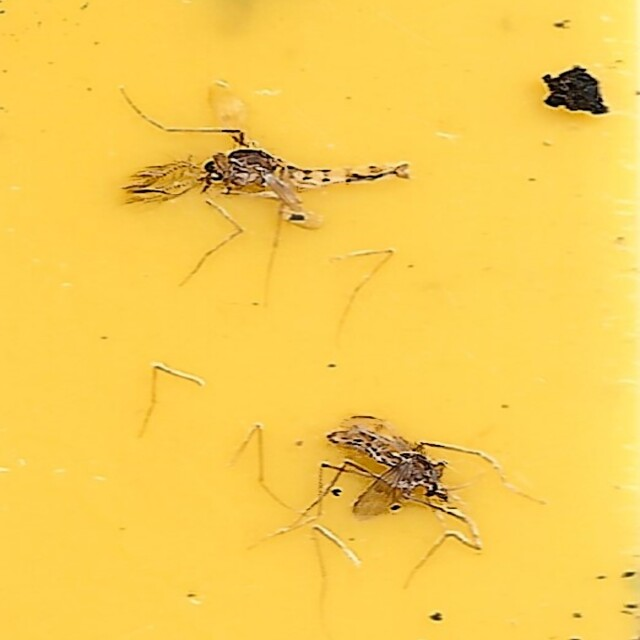Nematocera: (123, 93, 411, 239), (311, 412, 517, 547)
